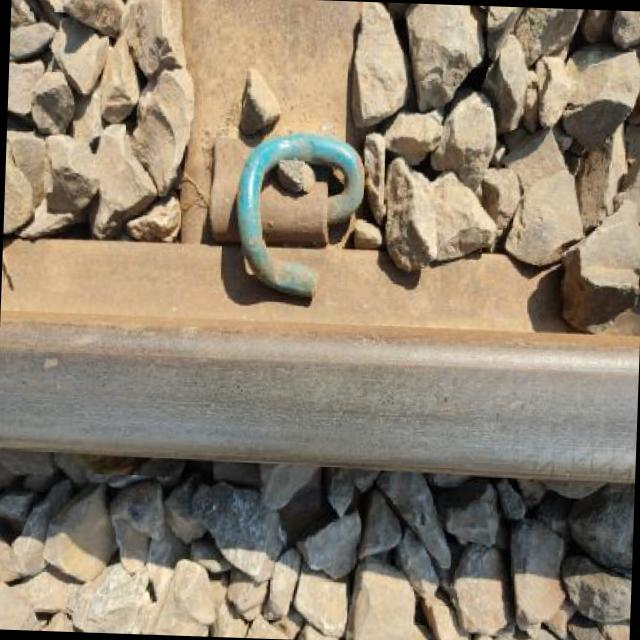non-defective: (0, 277, 630, 549)
